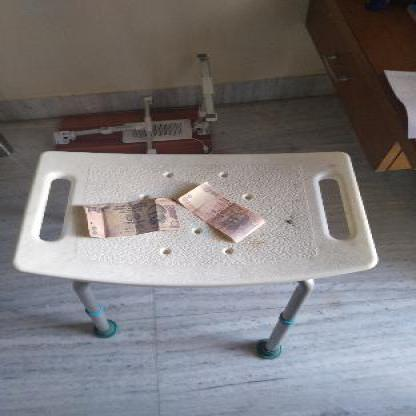Old10Front: (177, 185, 264, 242)
Old50Front: (83, 199, 177, 235)
